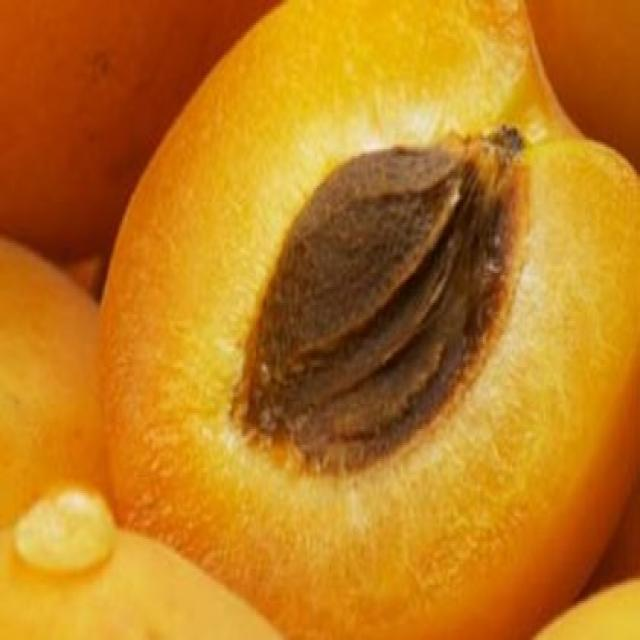Cekirdek: (241, 126, 523, 466)
Kayisi: (102, 0, 638, 638)
